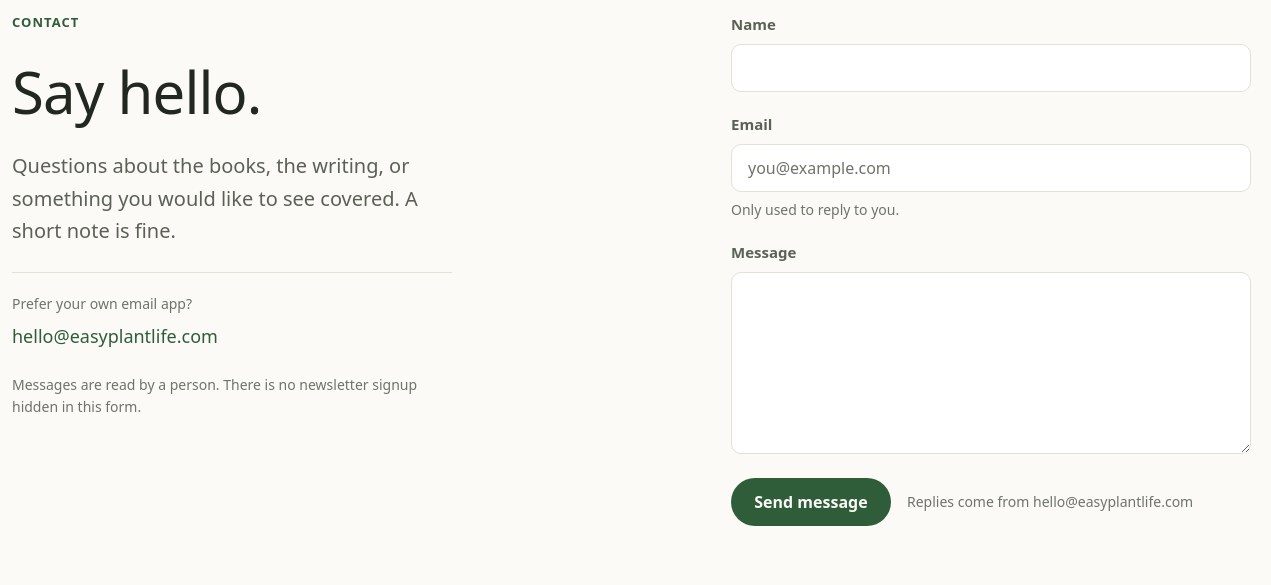
Test: Contact API Integration › shows error message when API fails with error field
This screenshot has width=1271, height=585.
Type "John Doe" into the field labelled "Name" at point(991, 68), box [731,44,1251,92]
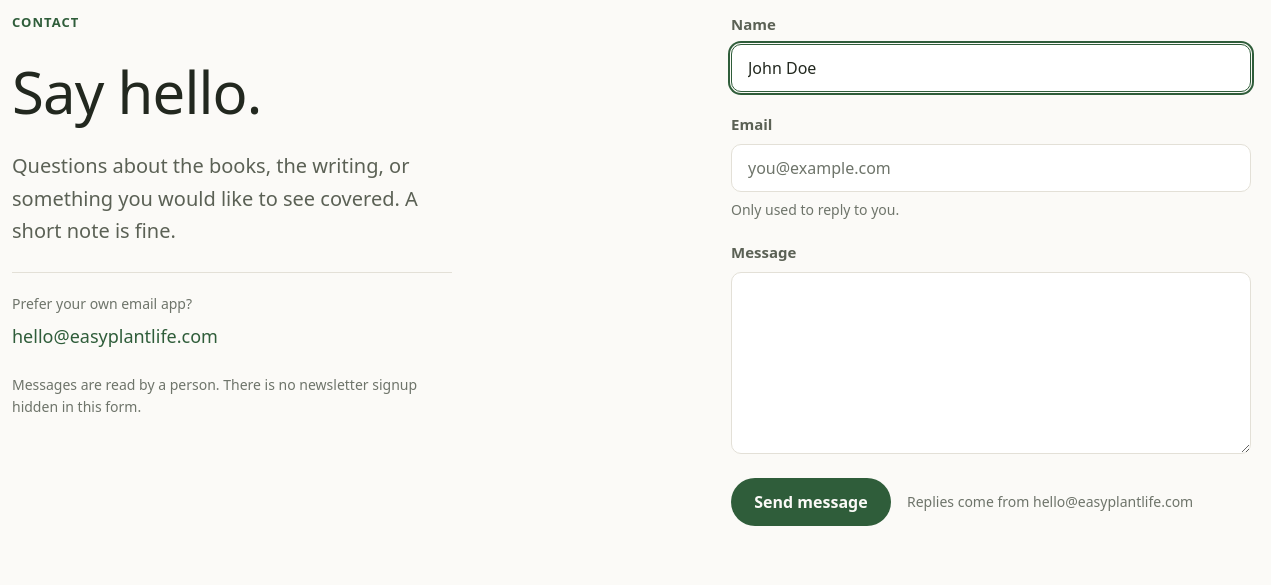
Type "john@example.com" into the field labelled "Email" at point(991, 168), box [731,144,1251,192]
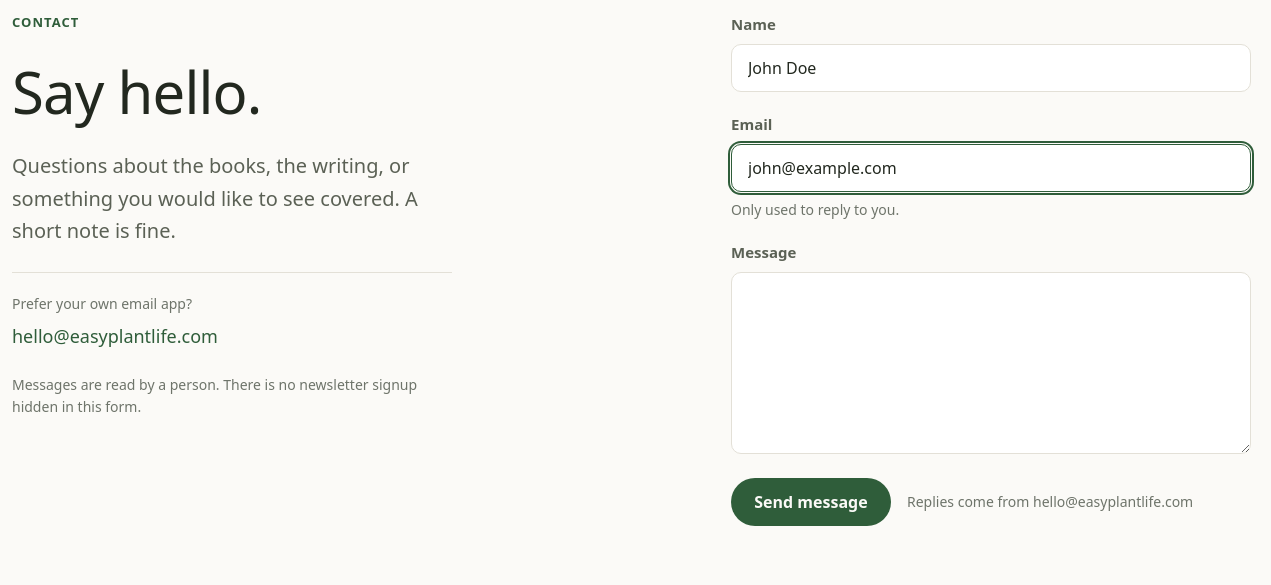
Type "Hello!" into the text box labelled "Message" at point(991, 363), box [731,272,1251,454]
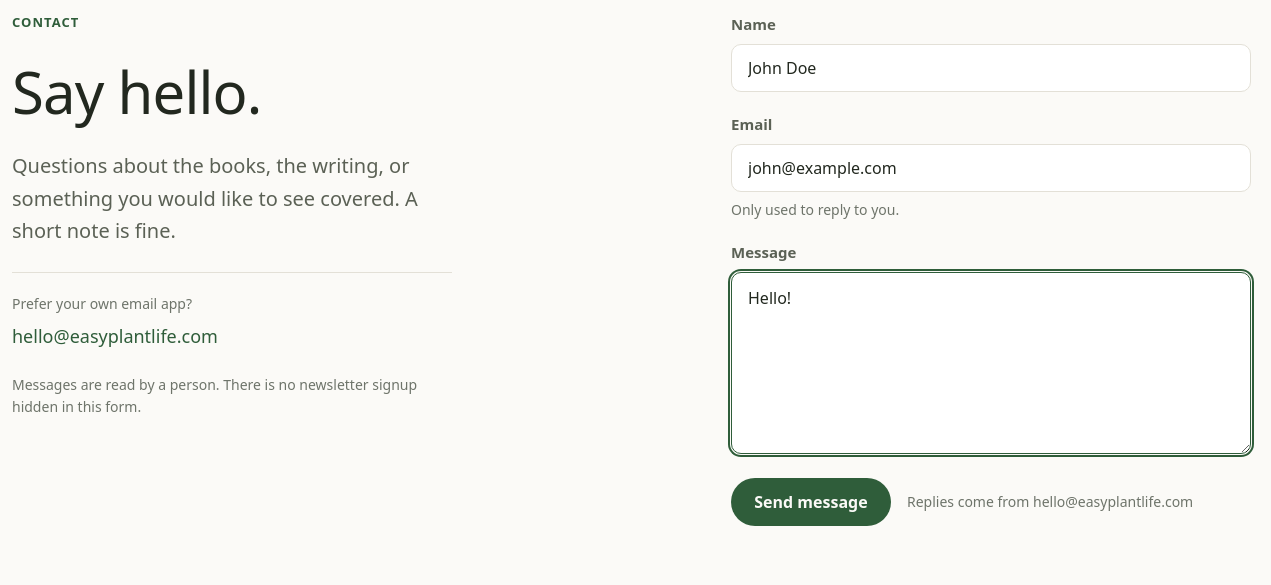
Click the button "Send message" at point(811, 502), box [731,478,891,526]
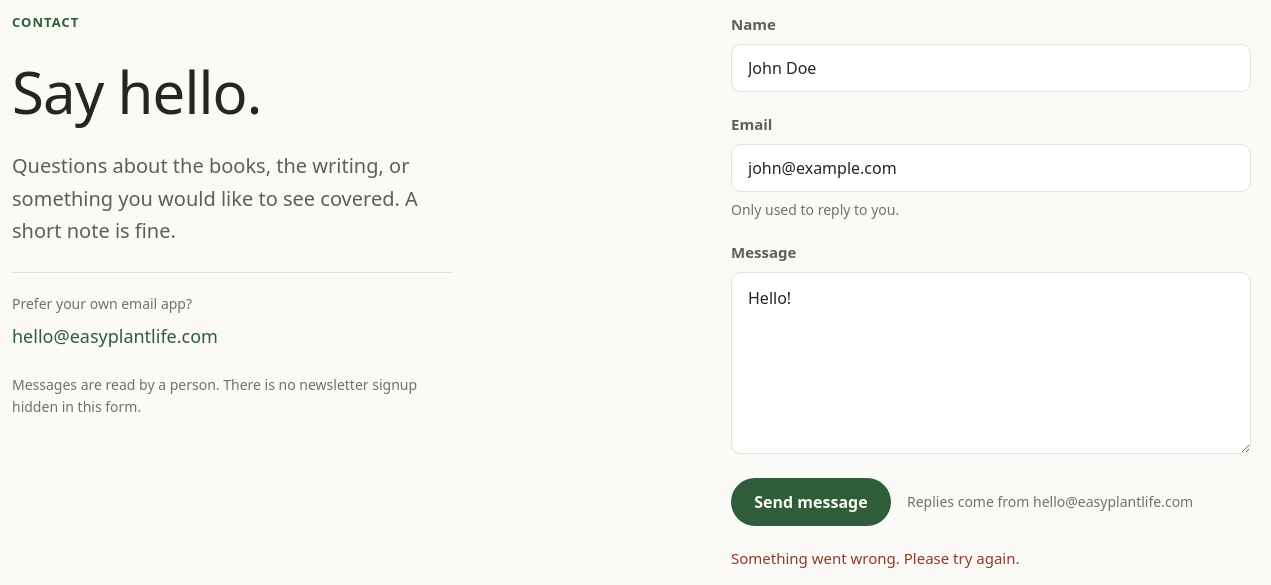
Check: the message "Something went wrong. Please try again." is shown, box [731,548,1020,568]
